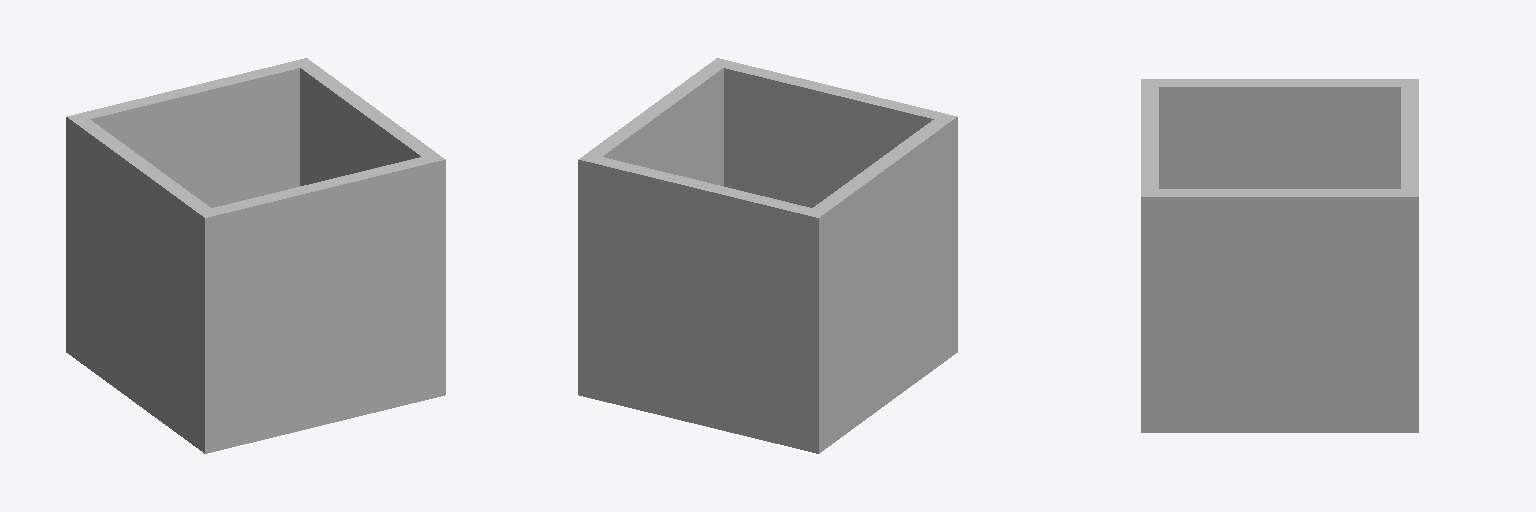
The model's file is SoakingTrough.obj.
The picture shows the model from 3 angles: view 1: azimuth 30°, elevation 25°; view 2: azimuth 150°, elevation 25°; view 3: azimuth 270°, elevation 25°; orthographic projection.
Visible parts, largest first — view 1: Side3, Side2, Side4, Side1; view 2: Side4, Side2, Side3, Side1; view 3: Side1, Side2, Side3, Side4.
Part boxes in pixels (x1,y1,x2,y2): Side3: (212, 157, 430, 449); Side2: (66, 113, 219, 453); Side4: (82, 62, 299, 207); Side1: (292, 58, 445, 398); Side4: (593, 157, 811, 449); Side2: (804, 113, 957, 453); Side3: (724, 62, 941, 207); Side1: (578, 58, 731, 398); Side1: (1141, 189, 1418, 432); Side2: (1141, 79, 1418, 188); Side3: (1141, 87, 1158, 188); Side4: (1401, 87, 1418, 188).
Size of the model in its own units: 1 by 0.9375 by 1.